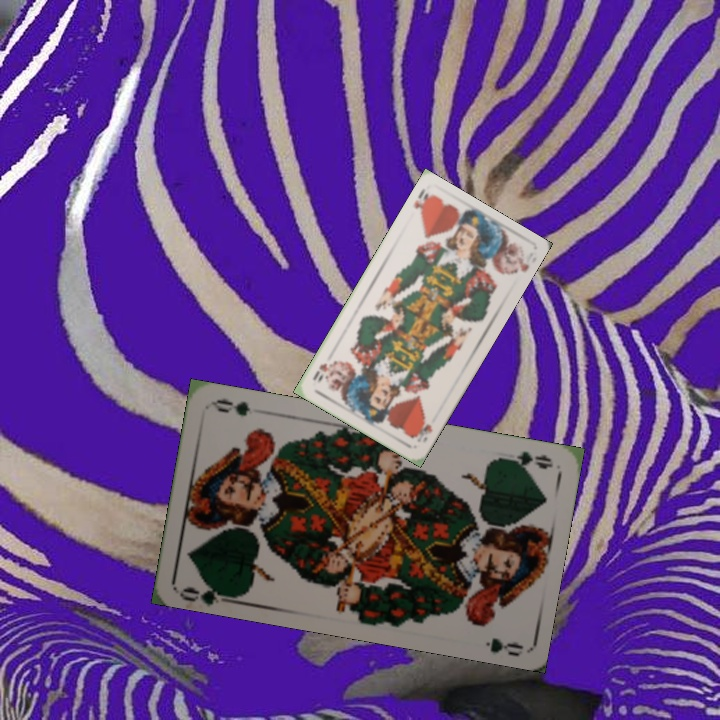GO: (177, 577, 237, 606), (496, 447, 555, 473)
HO: (410, 185, 431, 220), (409, 417, 435, 445)
